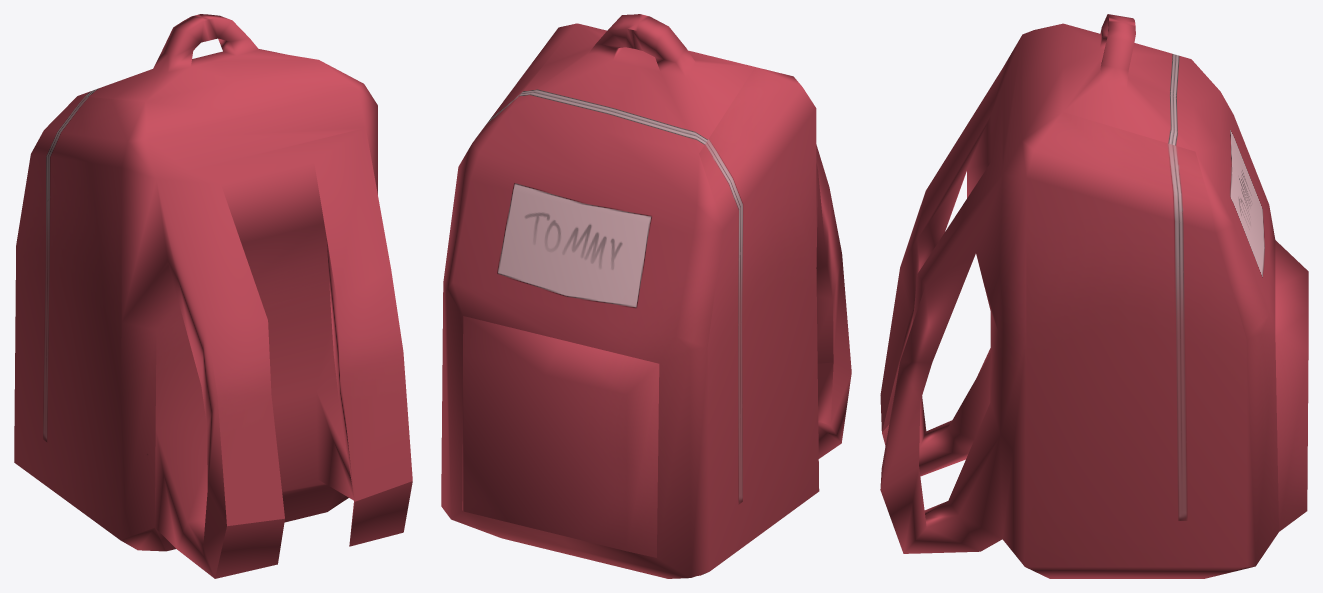
File: BagFBX.fbx
3 renders of one model, left to right at view 1: azimuth 30°, elevation 25°; view 2: azimuth 150°, elevation 25°; view 3: azimuth 270°, elevation 25°, orthographic. The views are drawn at different scales.
Visible parts, largest first — view 1: pCube1; view 2: pCube1; view 3: pCube1.
Part boxes in pixels (bbox=[...]): pCube1: bbox=[14, 14, 412, 578]; pCube1: bbox=[441, 14, 851, 578]; pCube1: bbox=[880, 14, 1308, 578].
Bounding box in the file's own units: 10.47 × 18.69 × 14.29.
